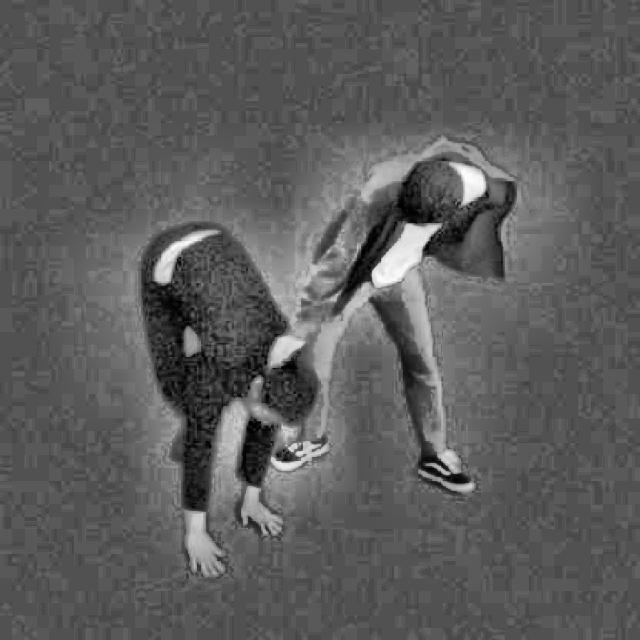robbery: (126, 129, 536, 589)
